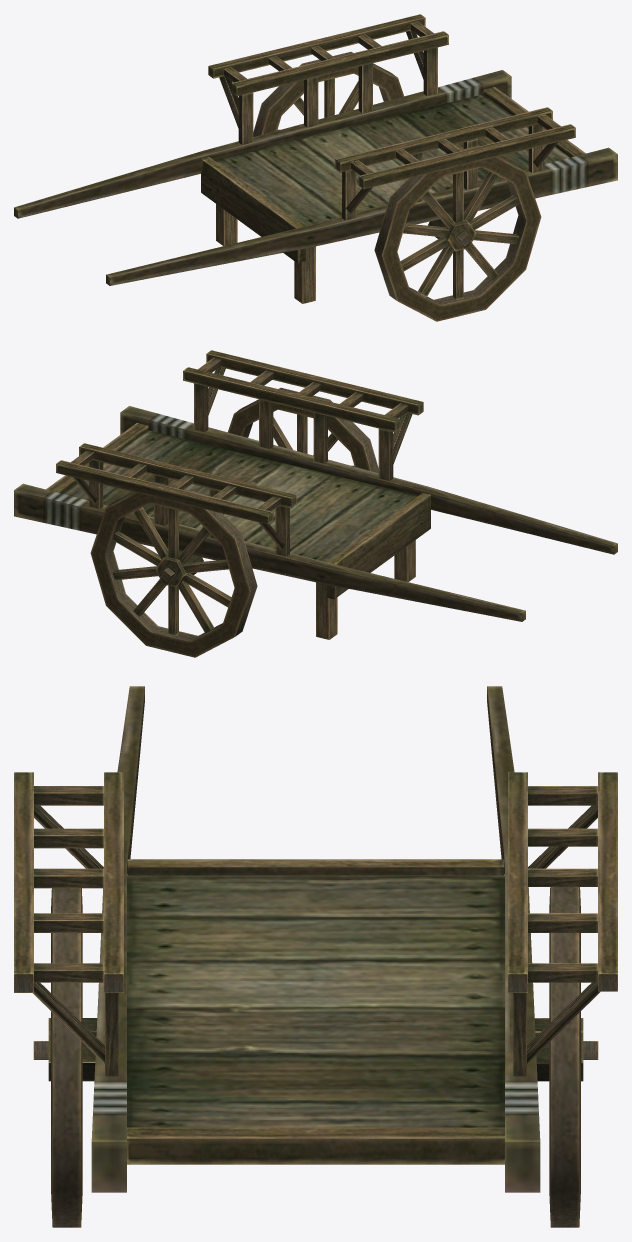
The model's file is wlf_tuiche02_w.FBX.
3 views of the same model, one above another, from view 1: azimuth 30°, elevation 25°; view 2: azimuth 150°, elevation 25°; view 3: azimuth 270°, elevation 25° (orthographic). The views are drawn at different scales.
Visible parts, largest first — view 1: wlf_tuiche02_w; view 2: wlf_tuiche02_w; view 3: wlf_tuiche02_w.
Part boxes in pixels (x1,y1,x2,y2): wlf_tuiche02_w: (14,14,617,321); wlf_tuiche02_w: (14,350,617,657); wlf_tuiche02_w: (14,686,617,1227).
Size of the model in its own units: 38.45 by 12.51 by 20.75.
